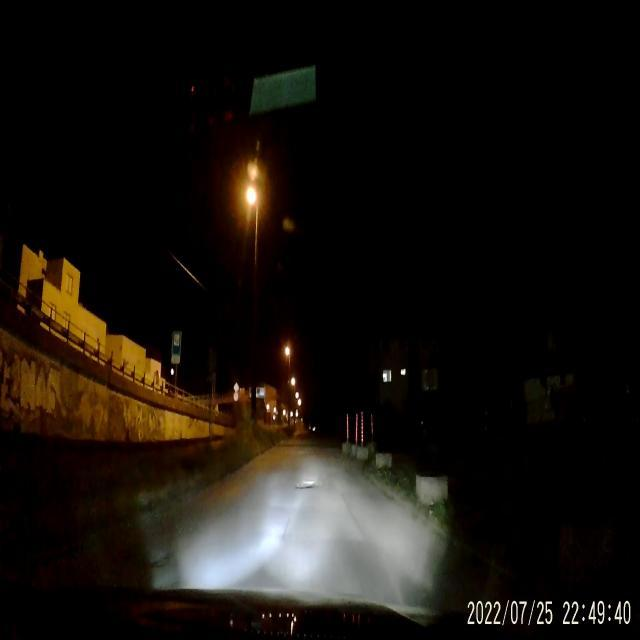Pothole: (147, 546, 177, 571), (294, 474, 316, 490)
